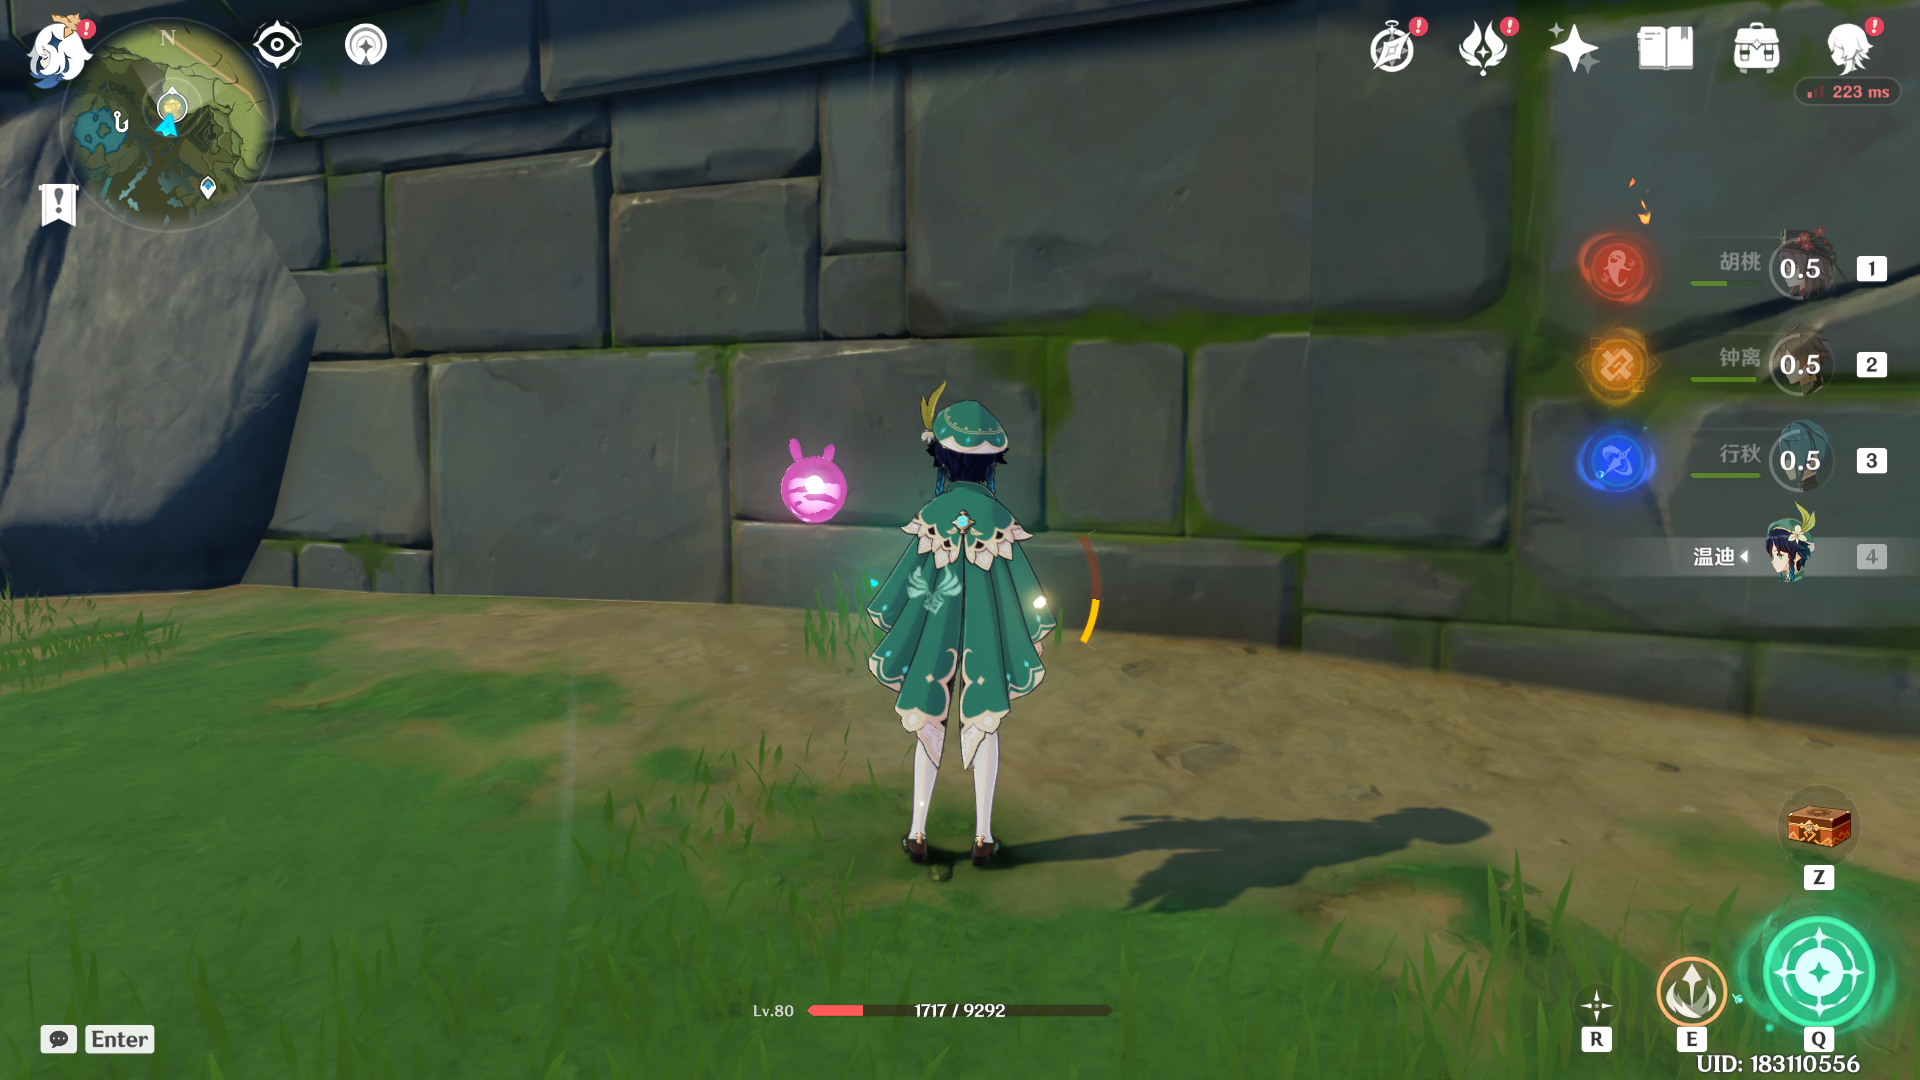character: (847, 385, 1112, 905)
